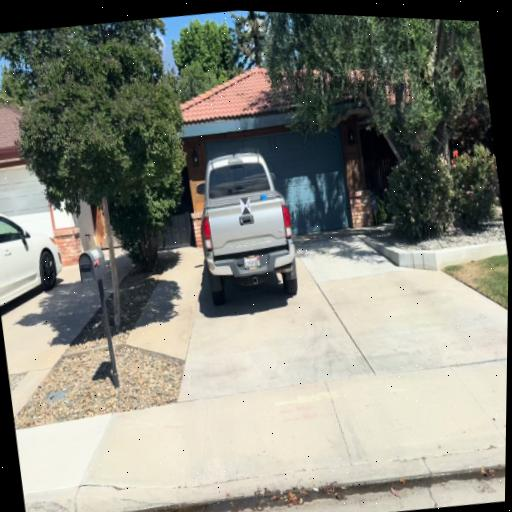target1: (240, 197, 251, 215)
